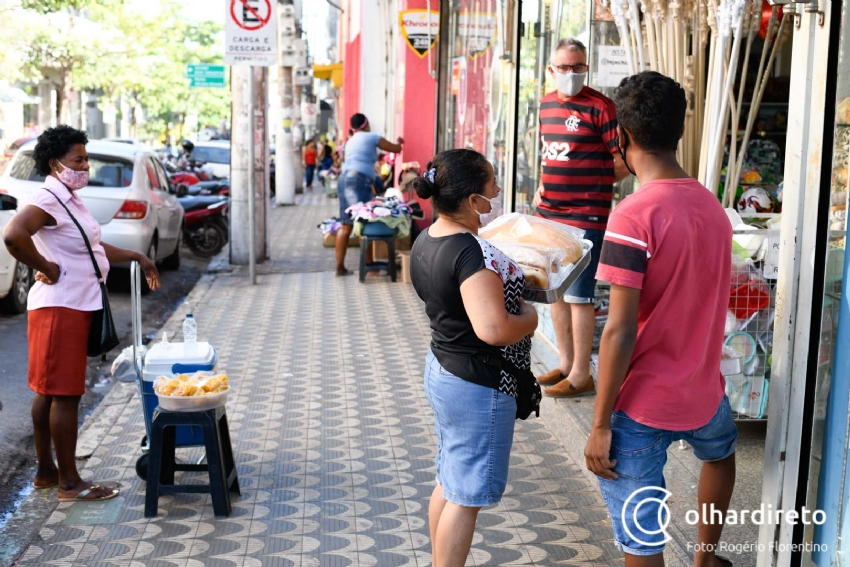mask_weared_incorrect: (46, 137, 90, 193)
with_mask: (544, 50, 592, 96)
